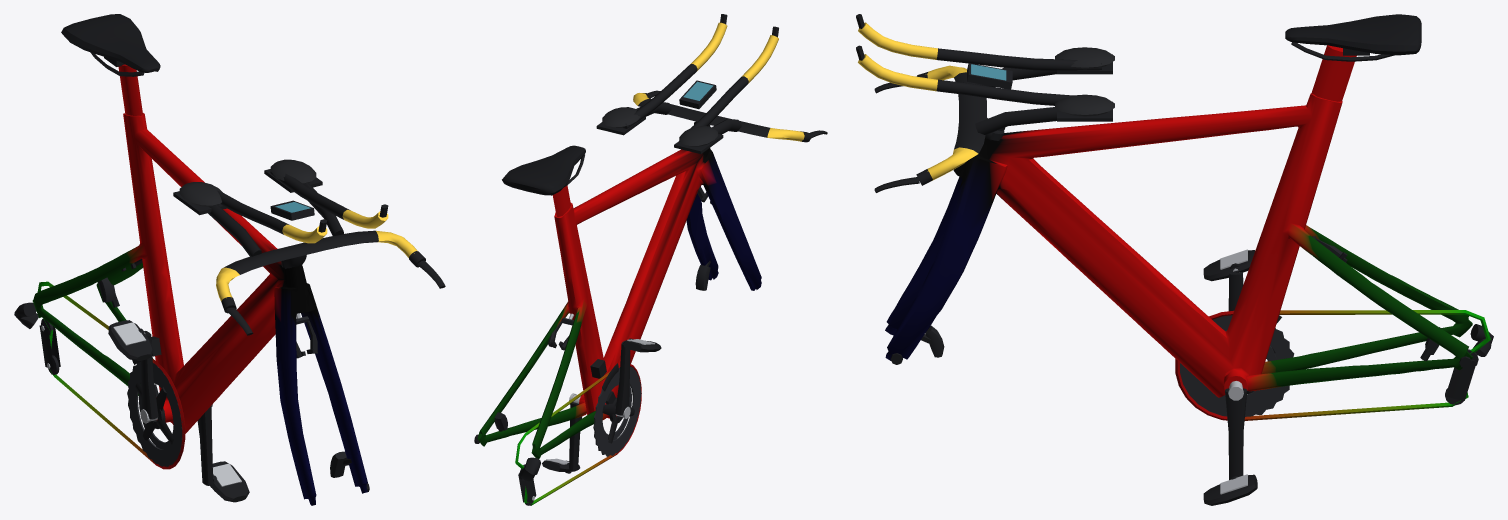
3 renders of one model, left to right at view 1: azimuth 30°, elevation 25°; view 2: azimuth 150°, elevation 25°; view 3: azimuth 270°, elevation 25°, orthographic. The views are drawn at different scales.
Visible parts, largest first — view 1: frame, cockpit, crankset, saddle, opt_derailleur, pedal_R, pedal_L, opt_brakes_disc, opt_brakes_rim; view 2: frame, cockpit, crankset, saddle, opt_derailleur, opt_brakes_disc, opt_brakes_rim, pedal_R; view 3: frame, cockpit, crankset, saddle, opt_derailleur, pedal_L, pedal_R, opt_brakes_disc.
Part boxes in pixels (bbox=[...]): frame: bbox=[32, 64, 367, 505]; cockpit: bbox=[173, 159, 445, 335]; crankset: bbox=[127, 331, 213, 485]; saddle: bbox=[61, 14, 160, 76]; opt_derailleur: bbox=[14, 302, 161, 374]; pedal_R: bbox=[108, 320, 153, 360]; pedal_L: bbox=[210, 461, 249, 502]; opt_brakes_disc: bbox=[98, 277, 369, 491]; opt_brakes_rim: bbox=[121, 259, 317, 358]; frame: bbox=[477, 148, 761, 505]; cockpit: bbox=[596, 14, 827, 153]; crankset: bbox=[569, 340, 641, 471]; saddle: bbox=[502, 145, 585, 195]; opt_derailleur: bbox=[518, 359, 618, 505]; opt_brakes_disc: bbox=[474, 261, 710, 443]; opt_brakes_rim: bbox=[548, 186, 711, 350]; pedal_R: bbox=[623, 338, 661, 352]; frame: bbox=[885, 45, 1490, 420]; cockpit: bbox=[856, 14, 1114, 192]; crankset: bbox=[1180, 272, 1294, 479]; saddle: bbox=[1285, 14, 1421, 61]; opt_derailleur: bbox=[1276, 315, 1493, 405]; pedal_L: bbox=[1203, 474, 1257, 505]; pedal_R: bbox=[1203, 249, 1254, 281]; opt_brakes_disc: bbox=[890, 325, 1471, 368].
Bounding box in the file's own units: 0.4423 × 0.8869 × 1.14.
